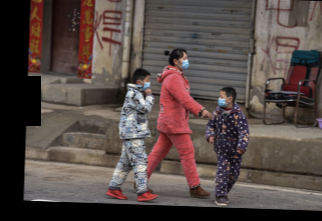with_mask: (178, 54, 189, 70), (217, 92, 228, 108), (141, 77, 151, 91)
